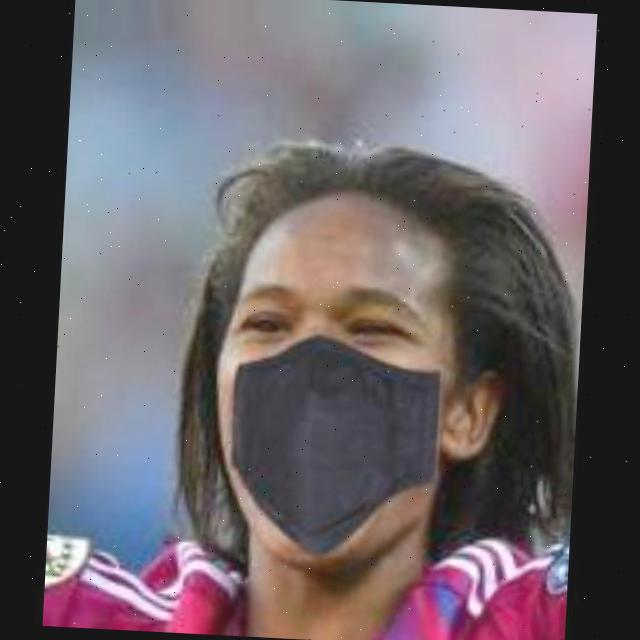suspicion: (131, 120, 539, 550)
